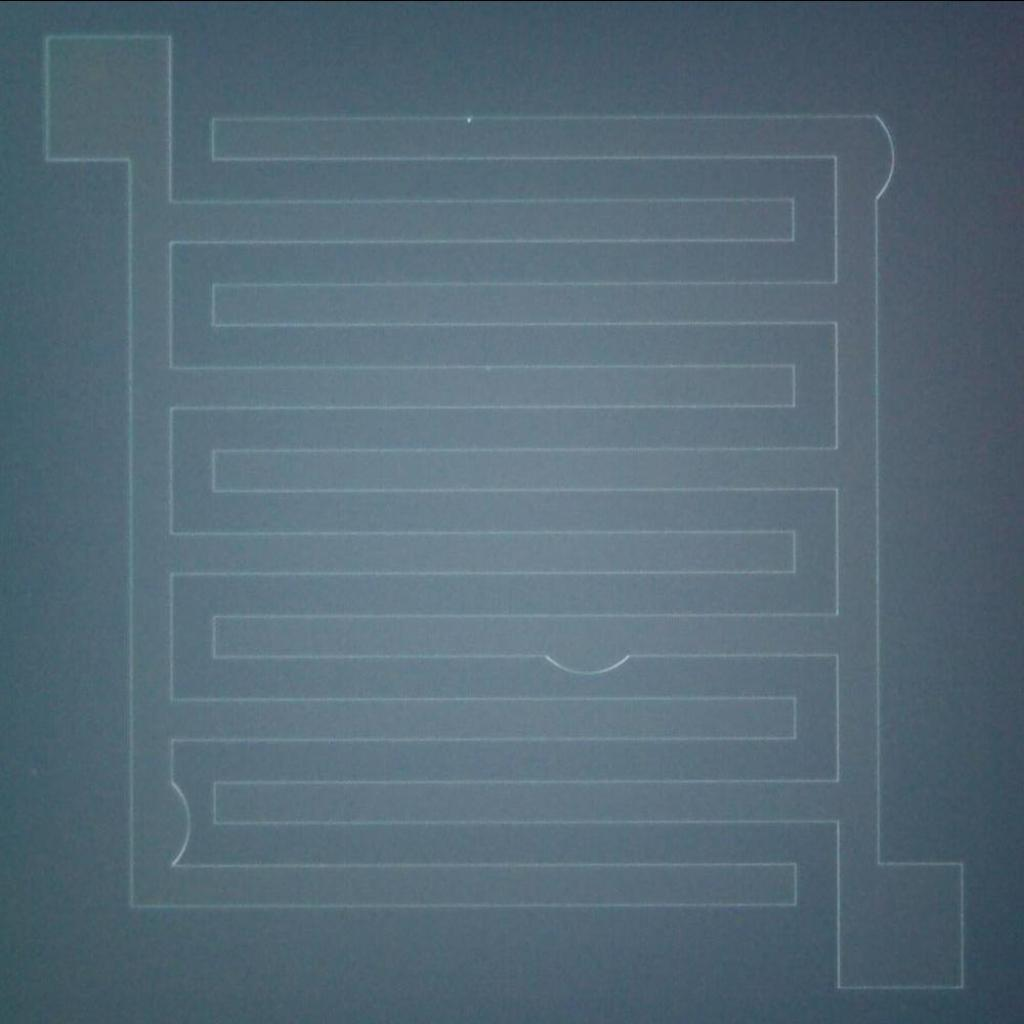curve circuit: (530, 638, 644, 684), (858, 113, 908, 216), (160, 765, 194, 875)
